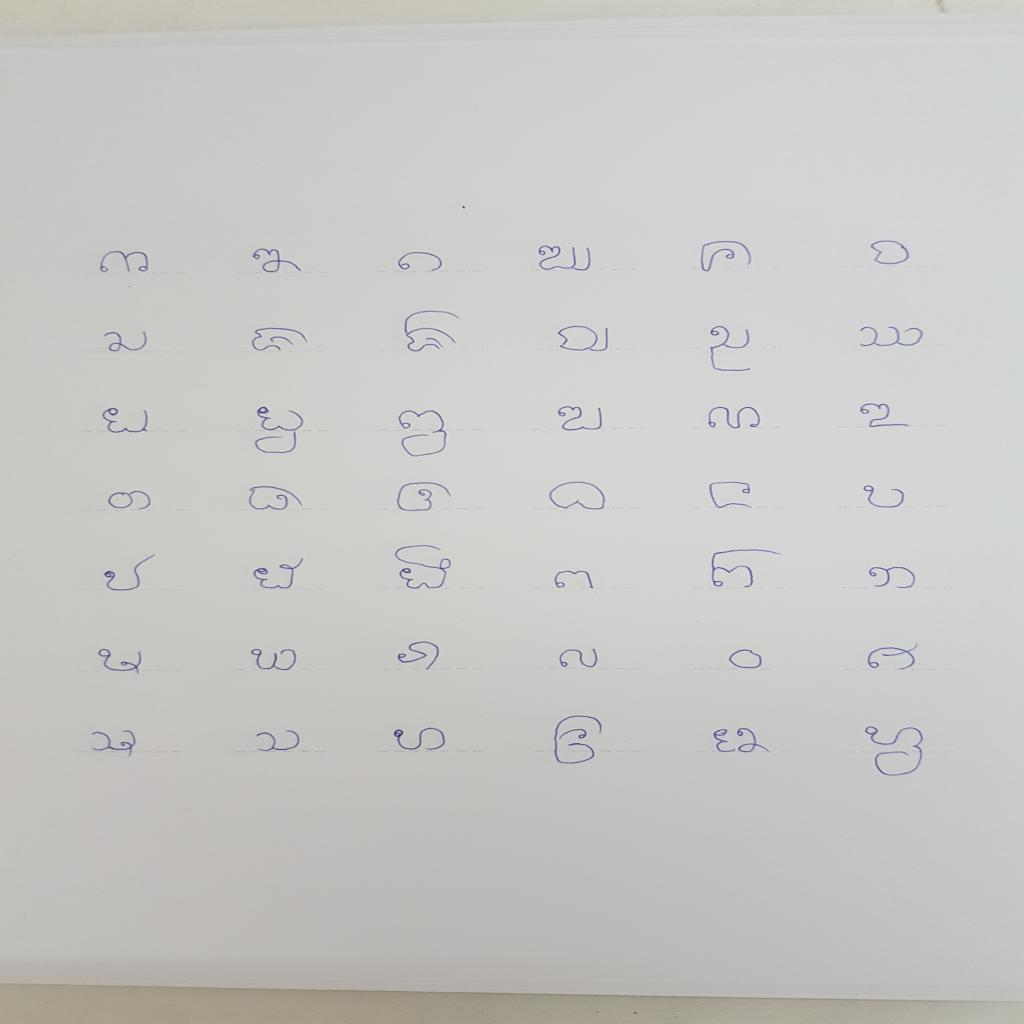LN001: (93, 248, 156, 277)
LN002: (250, 246, 311, 277)
LN003: (392, 249, 450, 275)
LN004: (532, 244, 599, 275)
LN005: (694, 238, 760, 276)
LN007: (98, 328, 154, 357)
LN008: (247, 325, 315, 357)
LN009: (398, 307, 466, 357)
LN010: (552, 323, 616, 356)
LN011: (703, 324, 757, 377)
LN012: (853, 324, 929, 350)
LN013: (96, 405, 157, 438)
LN014: (248, 404, 310, 457)
LN015: (390, 408, 455, 461)
LN016: (552, 404, 611, 435)
LN017: (702, 404, 768, 433)
LN019: (104, 488, 158, 514)
LN020: (243, 483, 310, 514)
LN021: (391, 480, 459, 516)
LN022: (545, 479, 614, 514)
LN023: (703, 479, 761, 513)
LN024: (859, 483, 912, 512)
LN025: (101, 552, 162, 596)
LN026: (250, 556, 310, 593)
LN027: (391, 543, 459, 593)
LN028: (548, 568, 601, 593)
LN029: (707, 547, 789, 593)
LN030: (863, 564, 923, 593)
LN031: (93, 646, 151, 679)
LN032: (245, 646, 303, 674)
LN033: (393, 639, 446, 675)
LN034: (554, 646, 606, 672)
LN035: (723, 648, 771, 673)
LN036: (862, 640, 926, 675)
LN037: (84, 729, 143, 762)
LN038: (247, 727, 308, 755)
LN039: (388, 725, 453, 755)
LN040: (547, 713, 610, 769)
LN041: (707, 725, 778, 758)
LN042: (859, 723, 931, 780)
